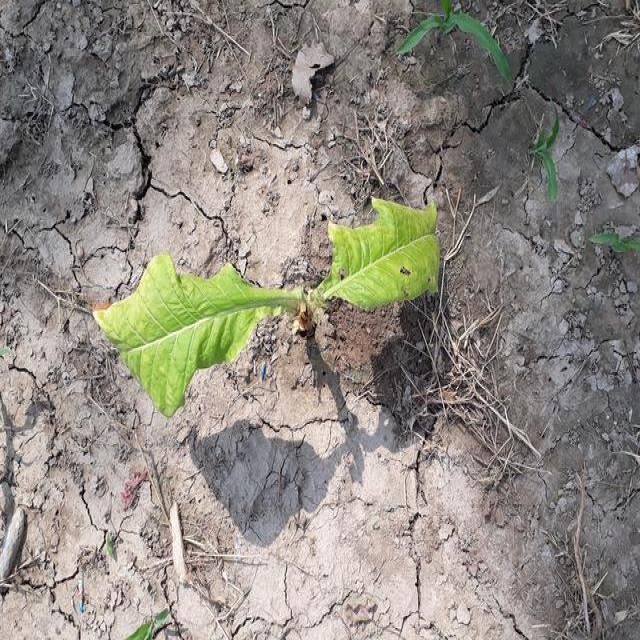crop: (90, 215, 455, 390)
